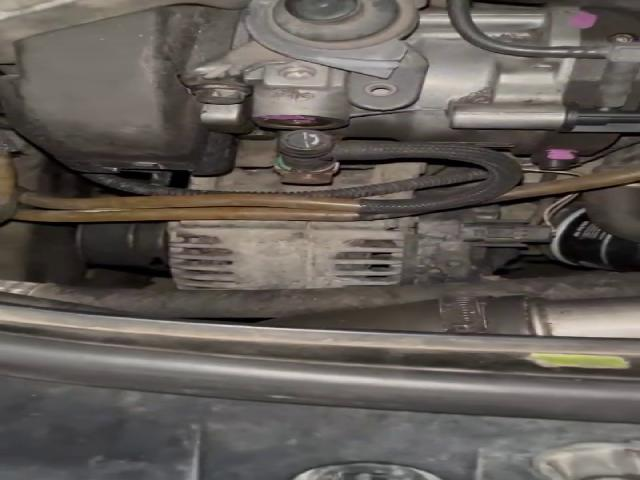alternator: (166, 204, 555, 291)
high_pressure_pump: (186, 6, 640, 174)
